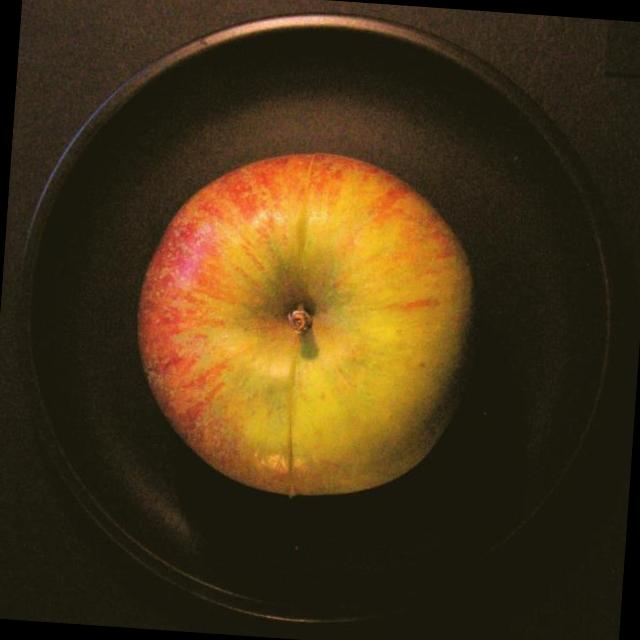Apple: (125, 138, 483, 508)
